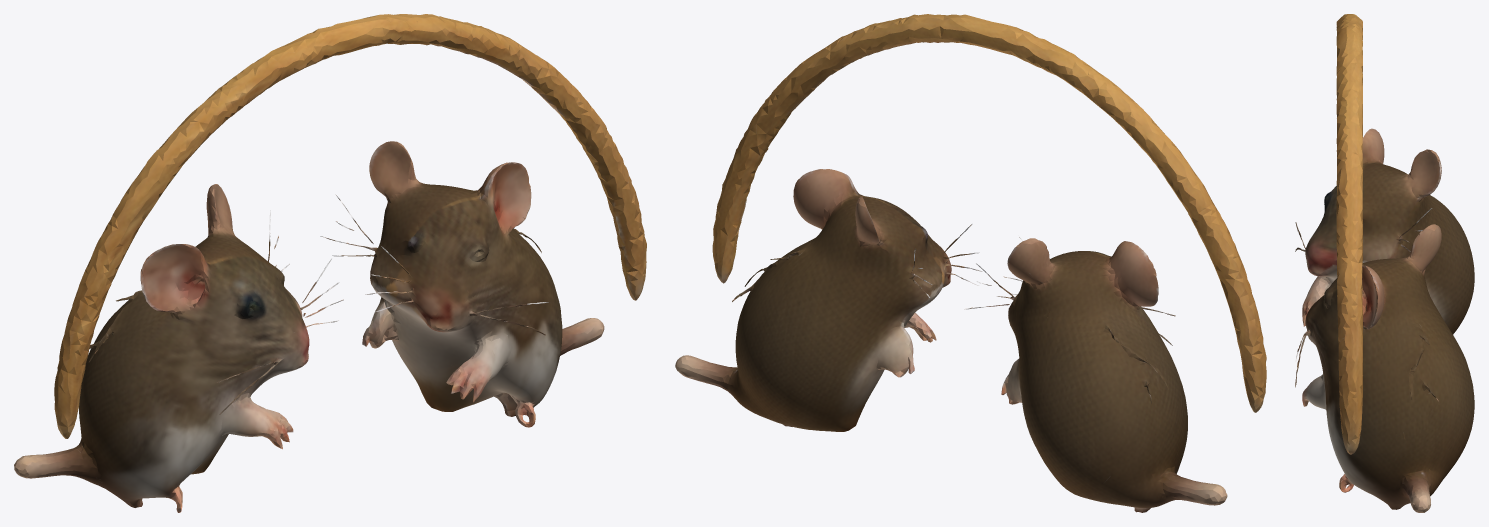
3 renders of one model, left to right at view 1: azimuth 30°, elevation 25°; view 2: azimuth 150°, elevation 25°; view 3: azimuth 270°, elevation 25°, orthographic. The views are drawn at different scales.
Parts seen in each view (by area): view 1: 027; view 2: 027; view 3: 027.
Boxes of the visible parts, x1=… form: 027: x1=14, y1=14, x2=646, y2=512; 027: x1=675, y1=14, x2=1266, y2=512; 027: x1=1295, y1=14, x2=1474, y2=512.
Size of the model in its own units: 1.9 by 1.41 by 0.5842.
1 material, 1 textured.
